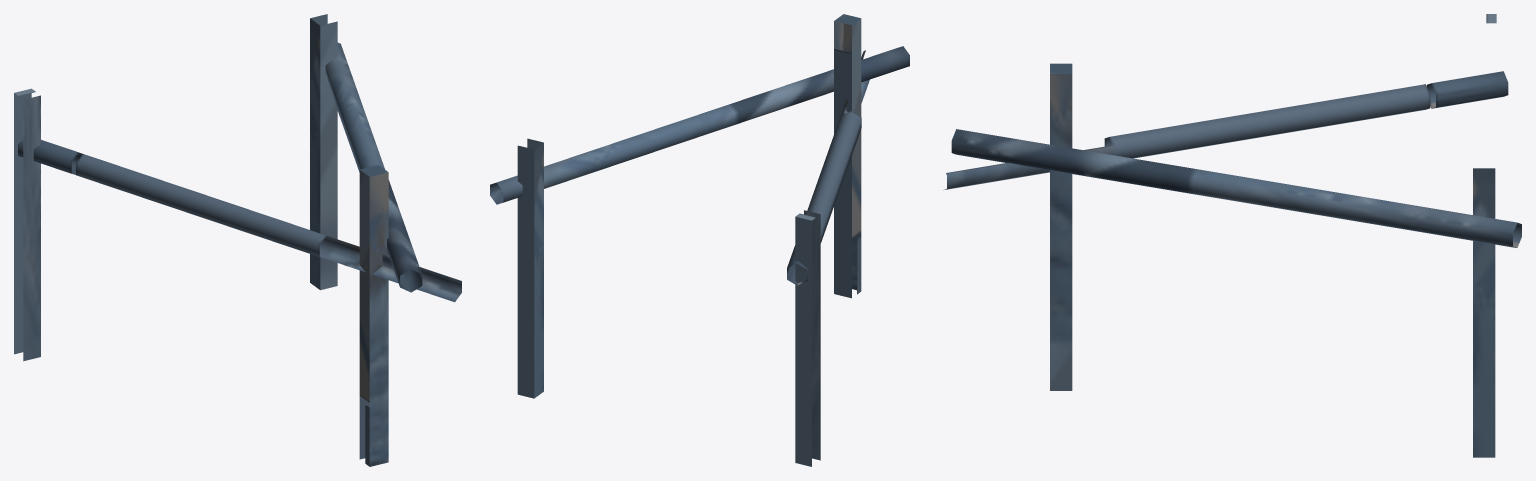
File: section-2.obj
The picture shows the model from 3 angles, left to right: view 1: azimuth 30°, elevation 25°; view 2: azimuth 150°, elevation 25°; view 3: azimuth 270°, elevation 25°; orthographic projection. The views are drawn at different scales.
Size of the model in its own units: 1.1 by 0.9146 by 1.53.
